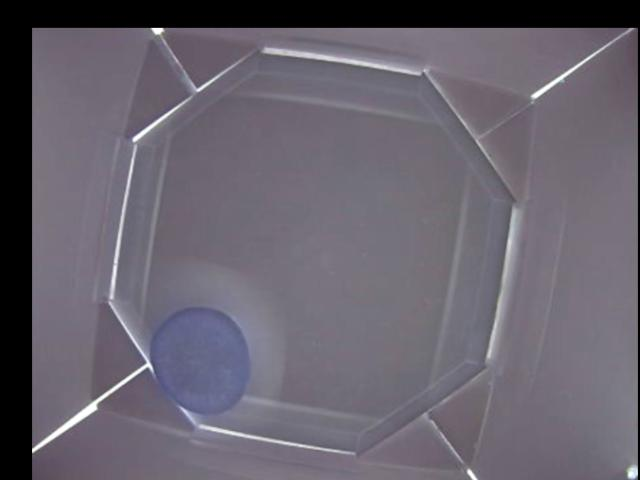Mooli: (148, 306, 250, 417)
